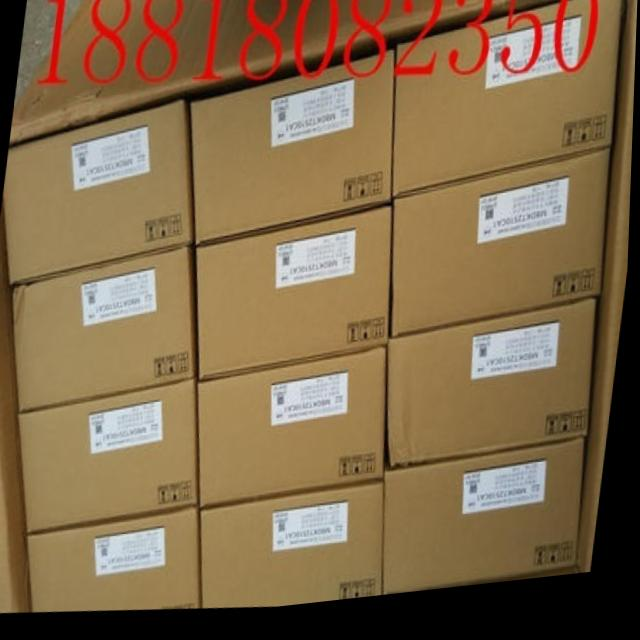box: (394, 1, 623, 207), (394, 166, 610, 346), (192, 60, 395, 248), (4, 102, 195, 288), (391, 310, 598, 480), (196, 214, 392, 388), (387, 452, 586, 604), (14, 250, 198, 413), (202, 359, 389, 515), (20, 383, 202, 538), (202, 490, 387, 611), (30, 512, 204, 611)
